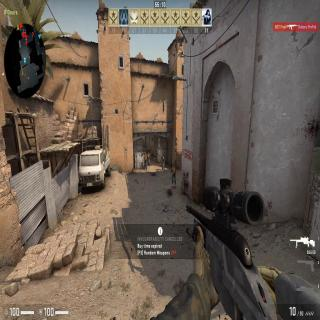T-Body: (171, 162, 176, 185), (161, 154, 165, 172), (144, 154, 147, 170), (148, 151, 150, 166), (148, 147, 150, 151)
T-Head: (172, 164, 175, 168), (162, 154, 164, 158), (144, 154, 146, 157), (148, 151, 150, 154), (148, 147, 150, 150), (144, 152, 146, 154)
